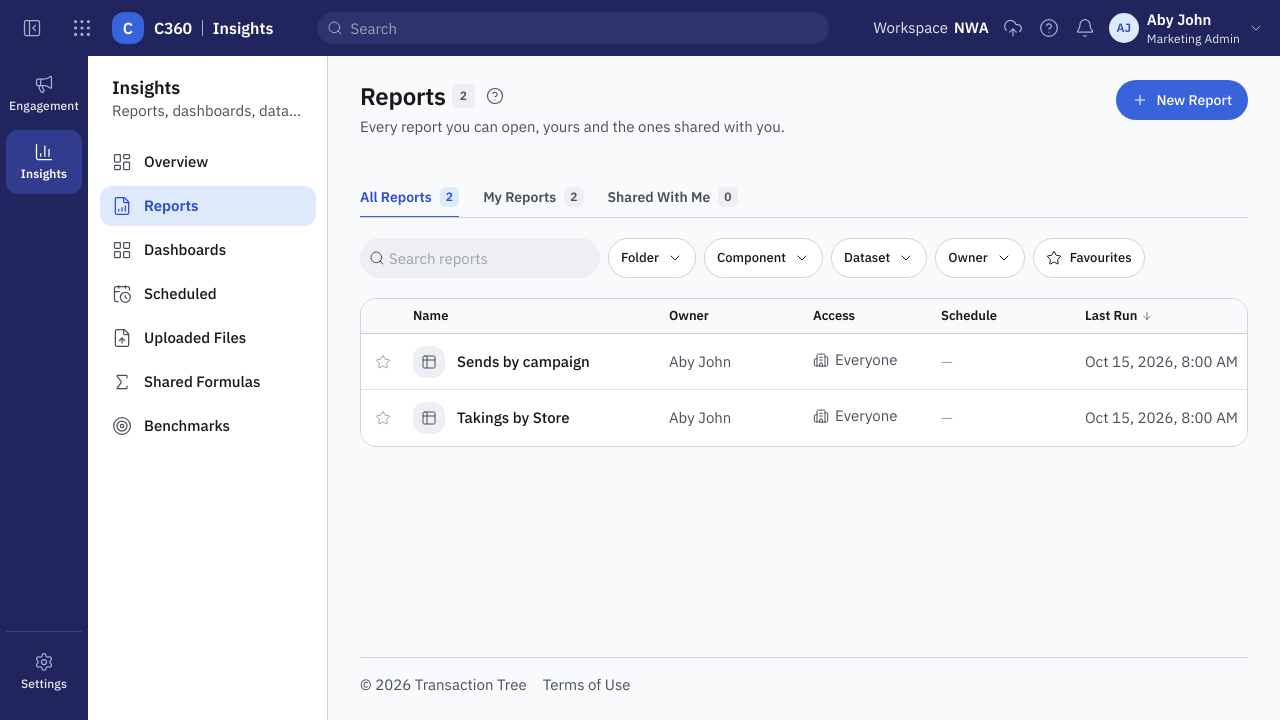
Component offers a component that holds only reports, and narrows the list to its reports
This screenshot has width=1280, height=720.
Click the button "Component" at (764, 258), box [704,238,823,278]
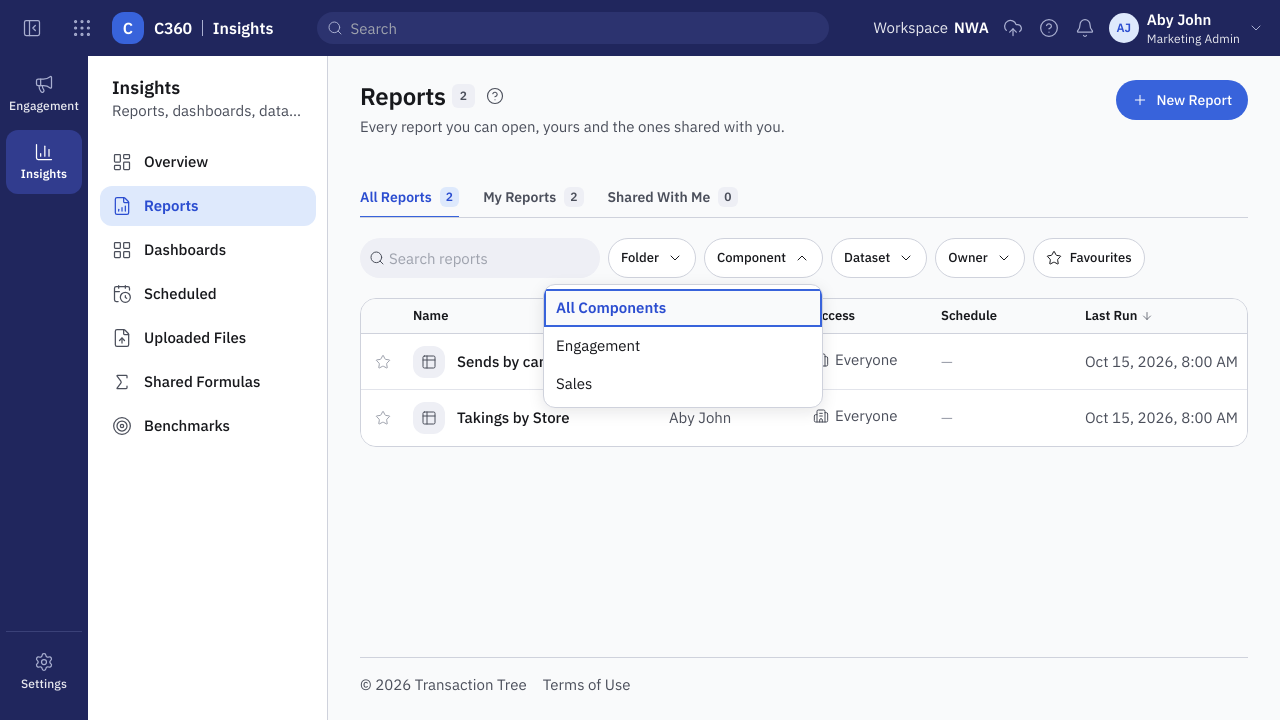
Click the option "Sales" at (574, 384), box [556,374,592,393]
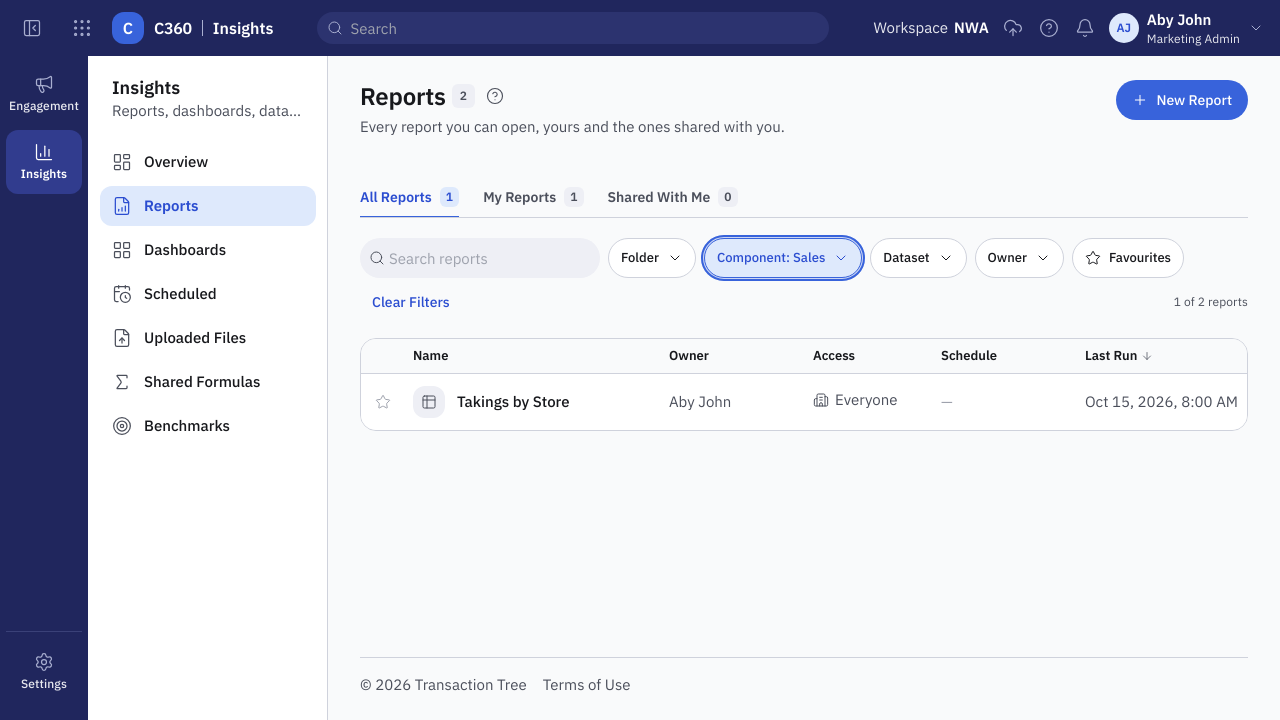
Expected: the link "Takings by Store" is shown, [457,391,570,413]
Expected: the link "Sends by campaign" is gone
